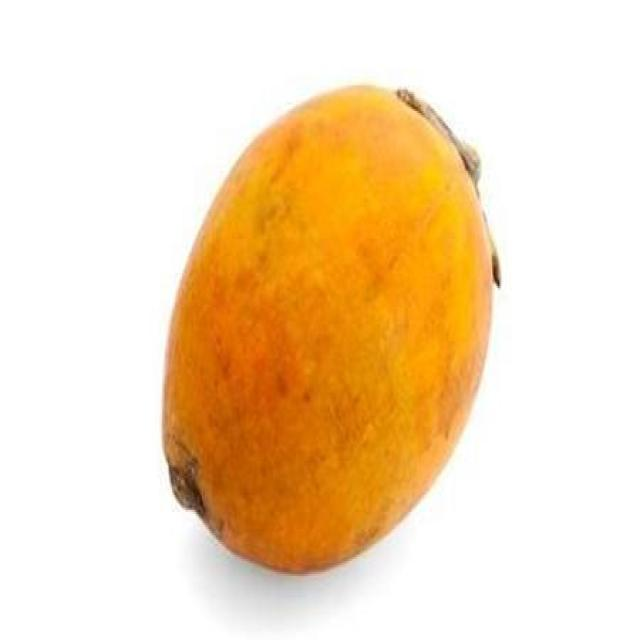good: (161, 87, 498, 578)
